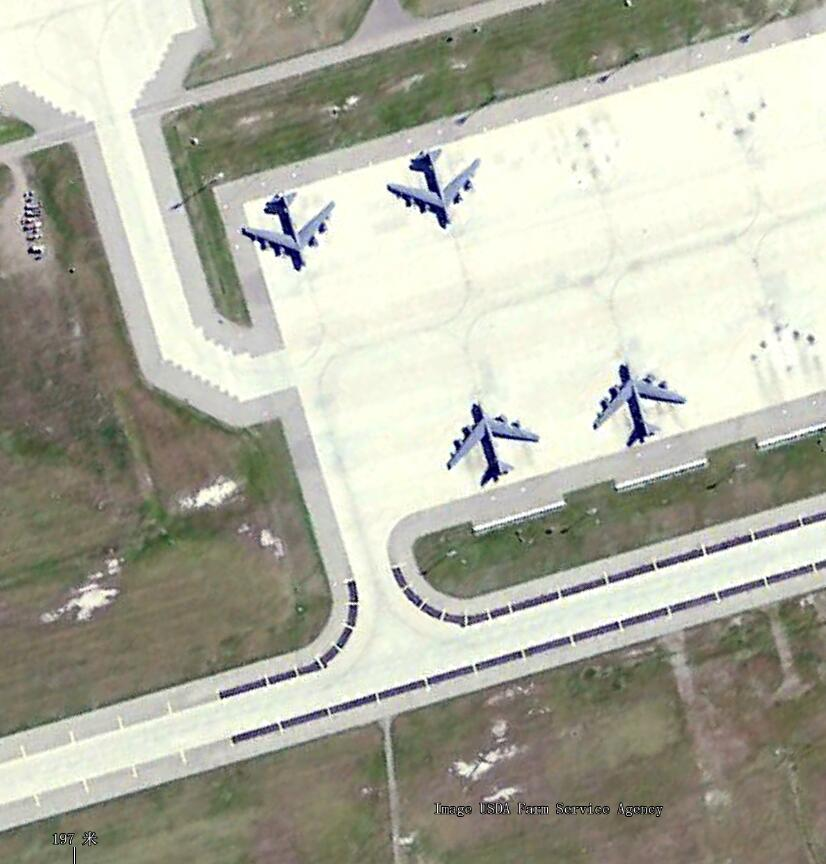A8: (439, 392, 542, 487), (588, 359, 689, 448), (389, 146, 483, 236), (241, 191, 341, 273)
